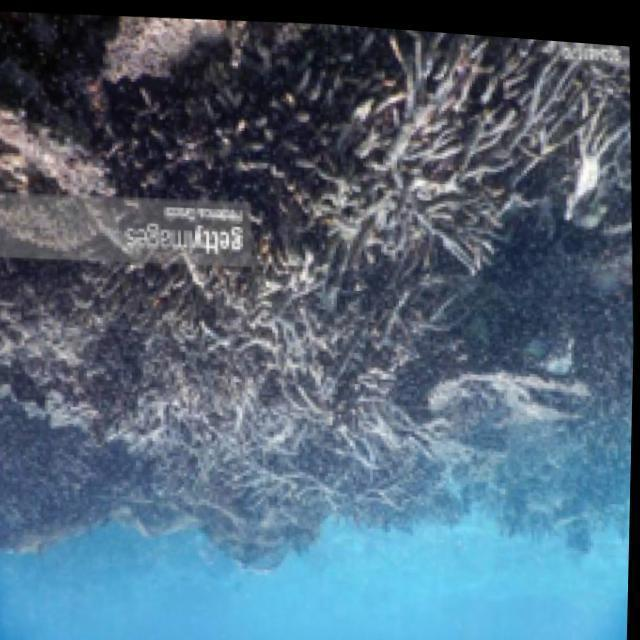Dead Coral: (222, 14, 640, 402), (98, 256, 488, 523)
